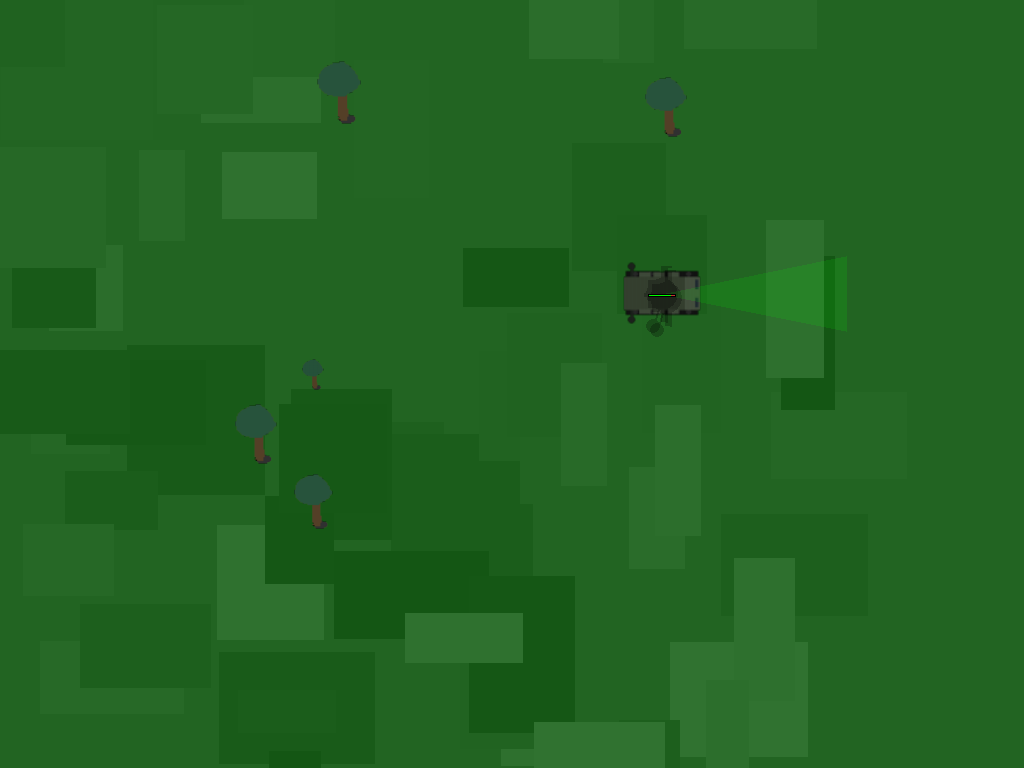RadarBuilding: (618, 250, 705, 337)
